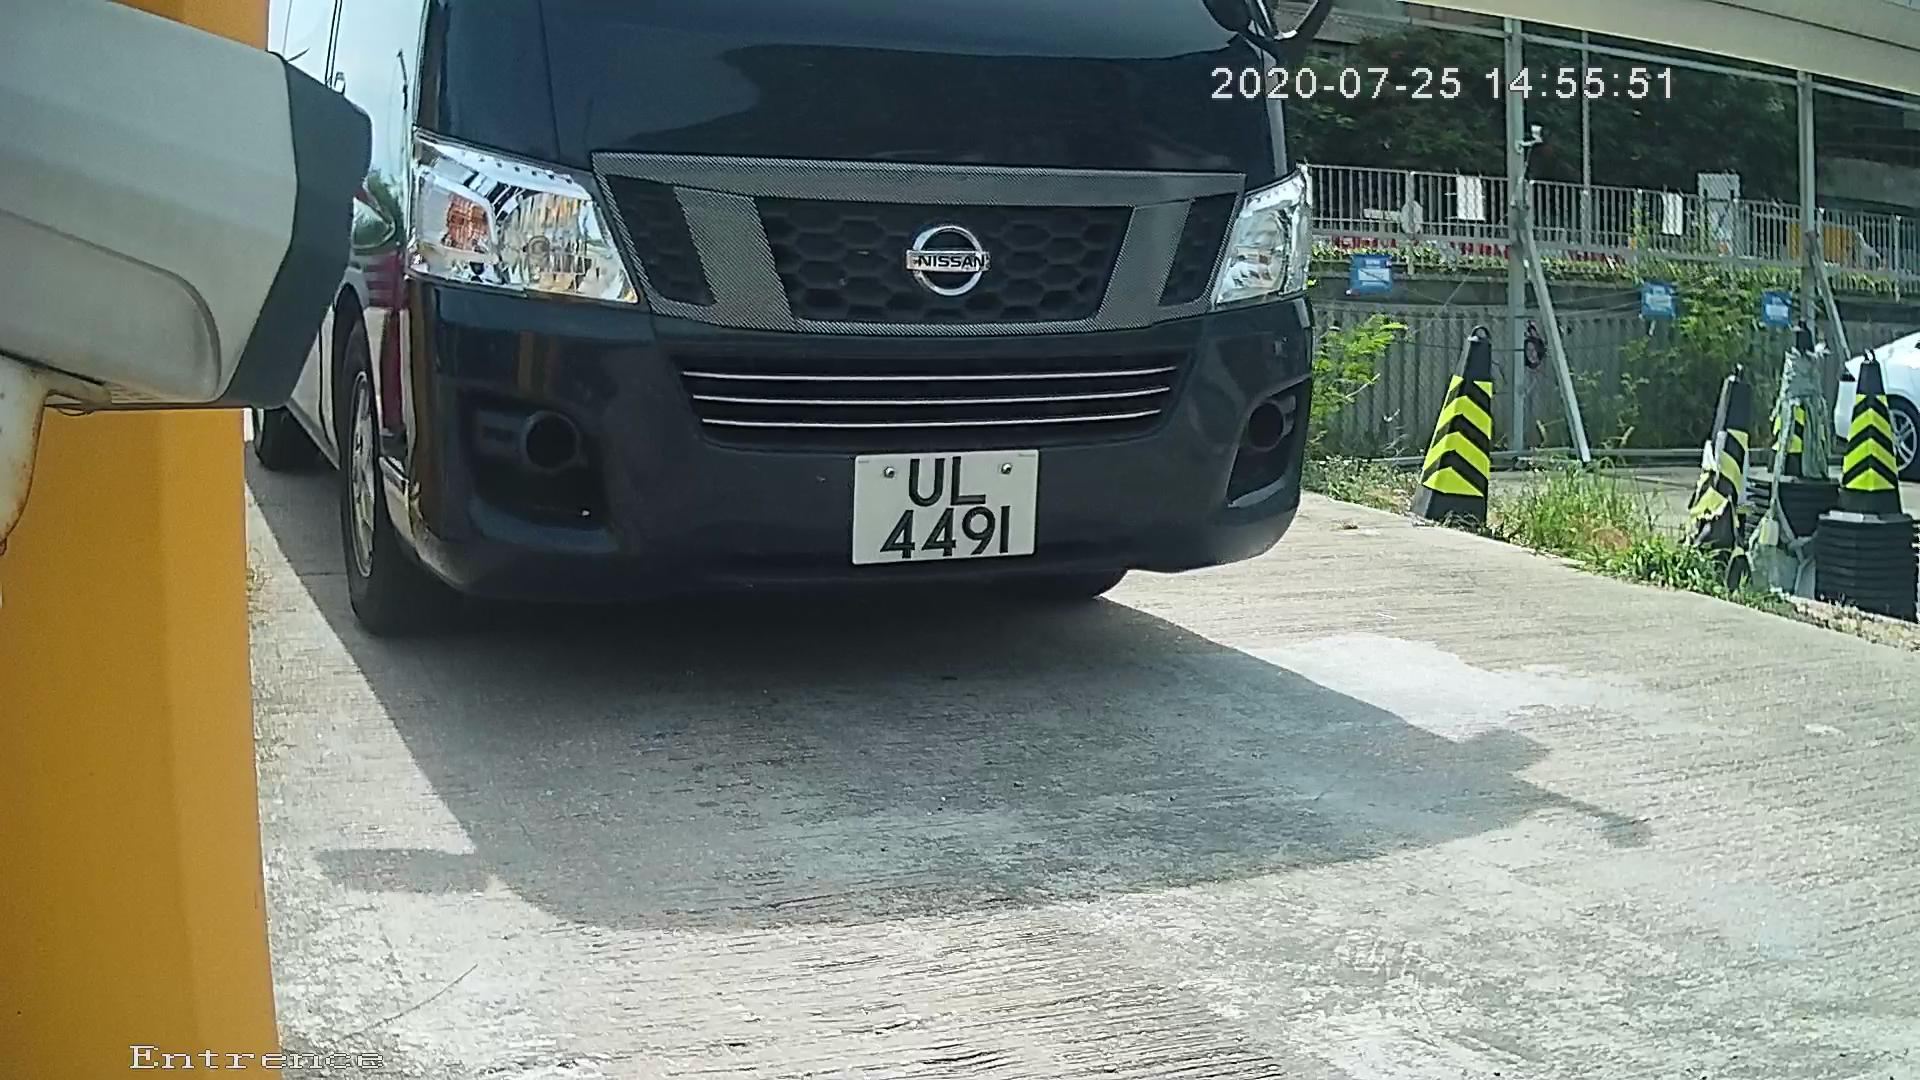Car: (86, 1, 1423, 719)
License Plate: (823, 444, 1055, 579)
